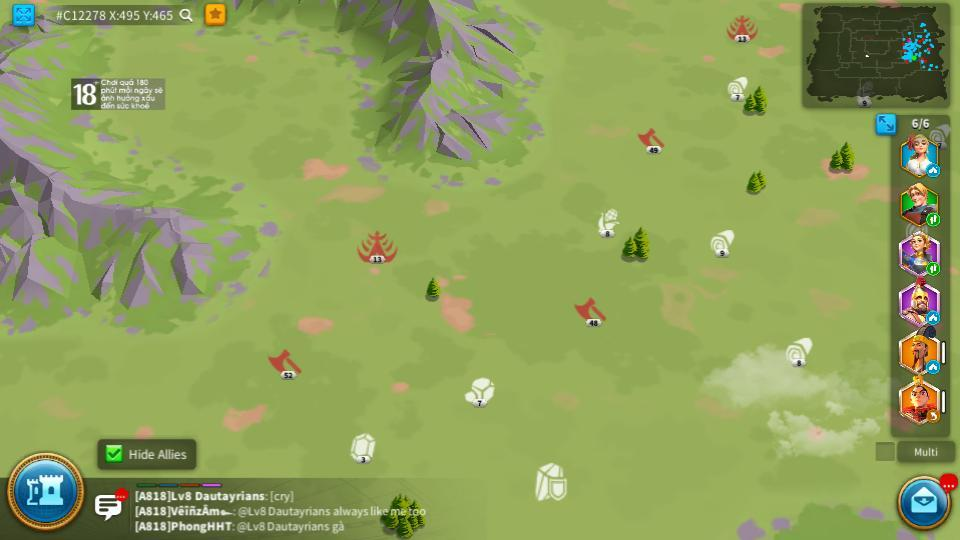gem-z-out: (348, 432, 376, 463)
march_idle: (927, 312, 940, 324), (927, 362, 940, 373), (927, 164, 940, 175)
march_marching: (925, 263, 938, 275), (927, 215, 940, 226)
march_returning: (926, 411, 940, 422)
